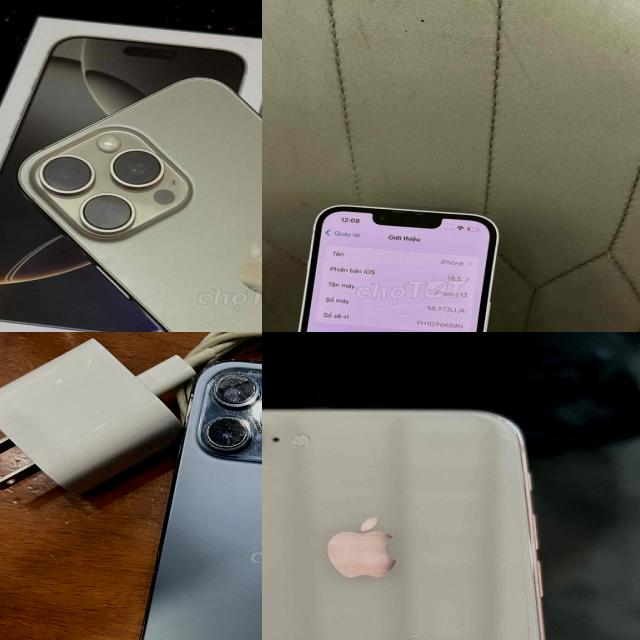gen_12_13: (108, 352, 262, 640), (269, 197, 520, 332)
gen_16: (20, 78, 262, 332)
gen_7_8: (262, 409, 546, 640)
scratch: (198, 351, 262, 471)
